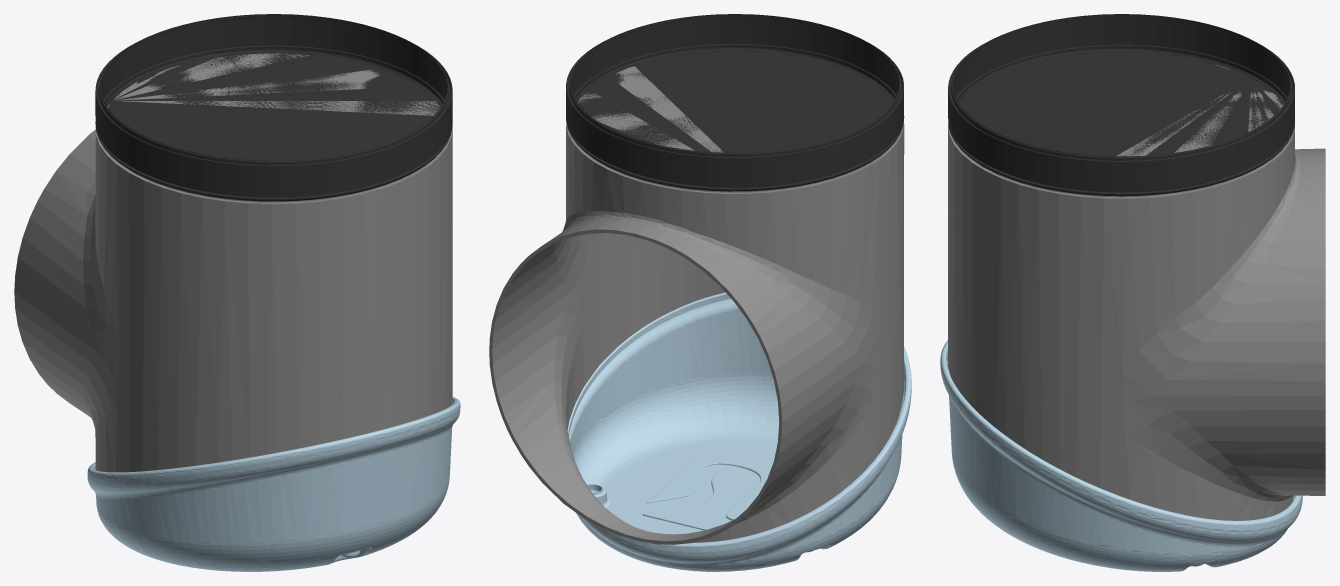
The picture shows the model from 3 angles, left to right: view 1: azimuth 30°, elevation 25°; view 2: azimuth 150°, elevation 25°; view 3: azimuth 270°, elevation 25°; orthographic projection. The views are drawn at different scales.
Parts seen in each view (by area): view 1: eSeries_UR10e_040, eSeries_UR10e_035, eSeries_UR10e_030; view 2: eSeries_UR10e_040, eSeries_UR10e_030, eSeries_UR10e_035; view 3: eSeries_UR10e_040, eSeries_UR10e_035, eSeries_UR10e_030.
Part boxes in pixels (x1,y1,x2,y2): eSeries_UR10e_040: (14, 53, 452, 472); eSeries_UR10e_035: (95, 14, 452, 201); eSeries_UR10e_030: (87, 397, 460, 571); eSeries_UR10e_040: (489, 66, 904, 544); eSeries_UR10e_030: (567, 292, 911, 571); eSeries_UR10e_035: (566, 14, 904, 191); eSeries_UR10e_040: (948, 64, 1325, 520); eSeries_UR10e_035: (948, 14, 1294, 196); eSeries_UR10e_030: (940, 340, 1302, 571).
Bounding box in the file's own units: 0.094 × 0.1249 × 0.0999.
